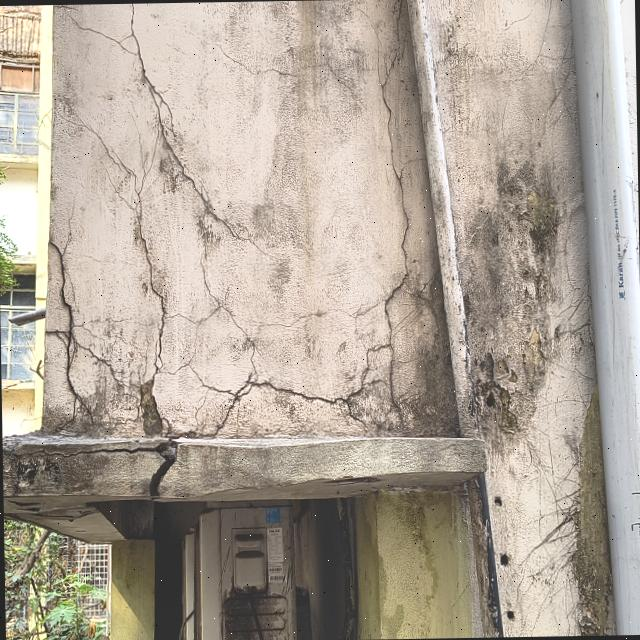crack: (2, 0, 488, 495)
peeling: (451, 150, 568, 465)
spalling: (0, 11, 40, 63)
stain_mould: (2, 0, 488, 495), (451, 150, 568, 465)
